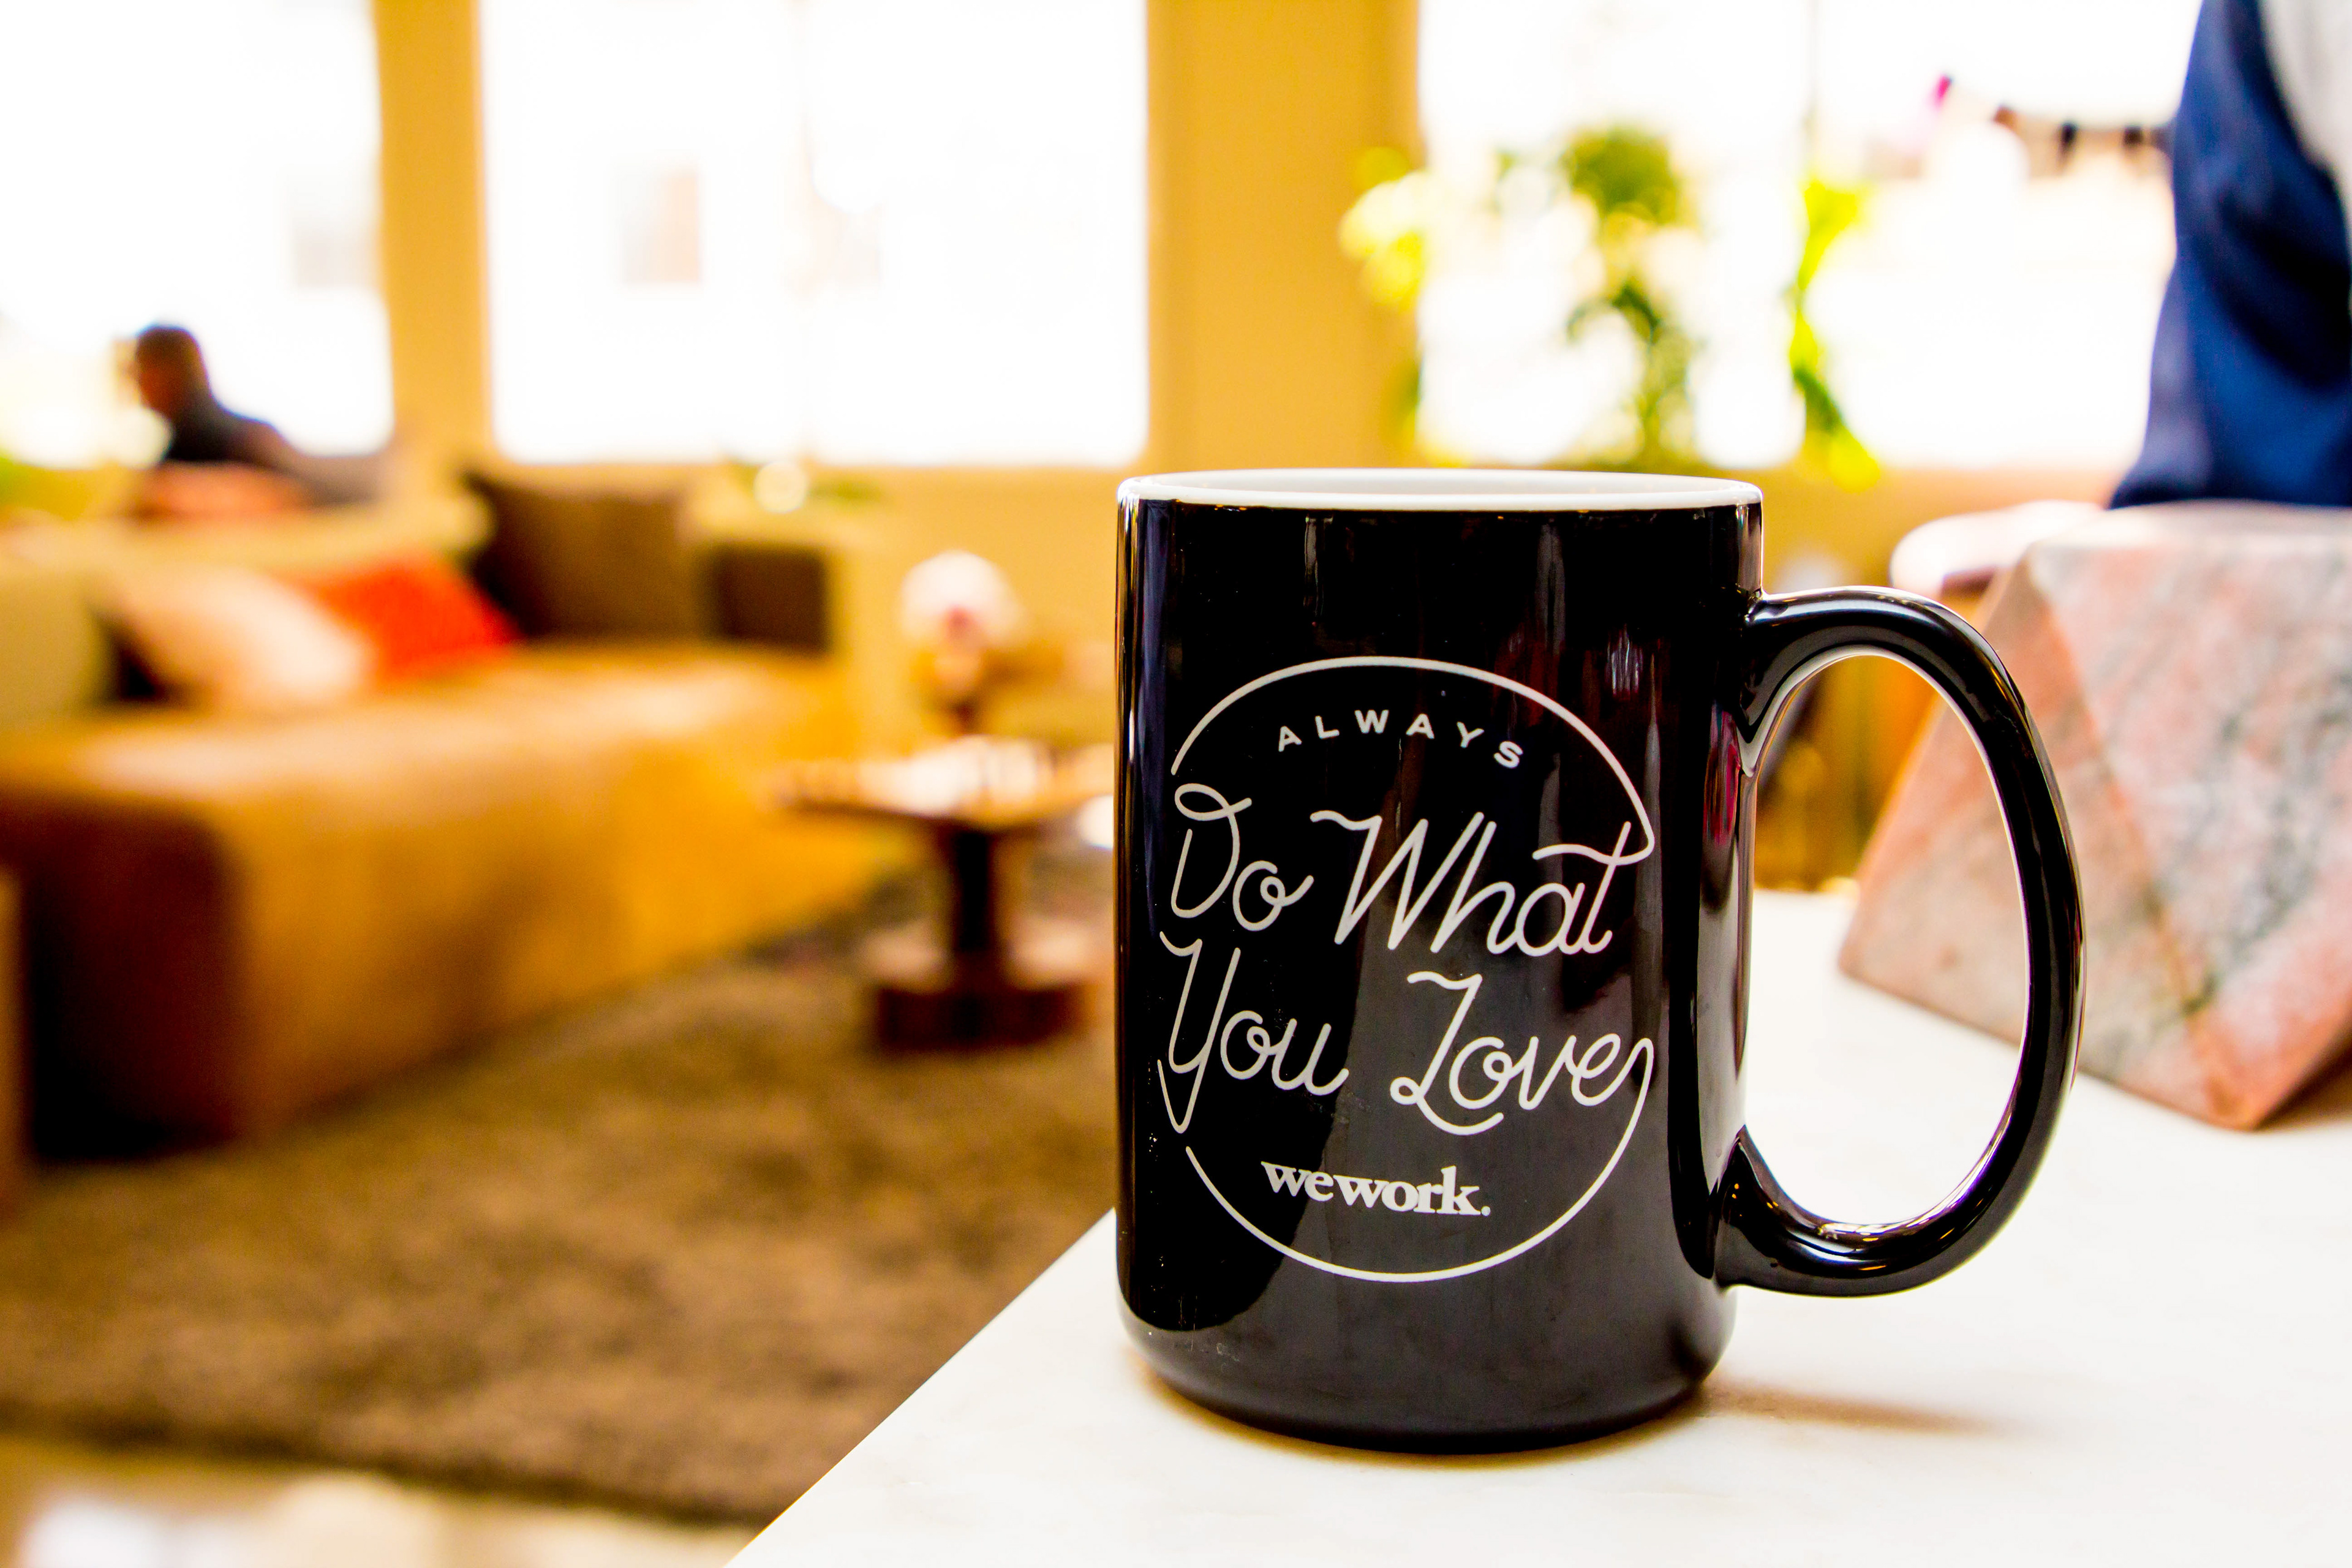wework: (1258, 1153, 1482, 1216)
